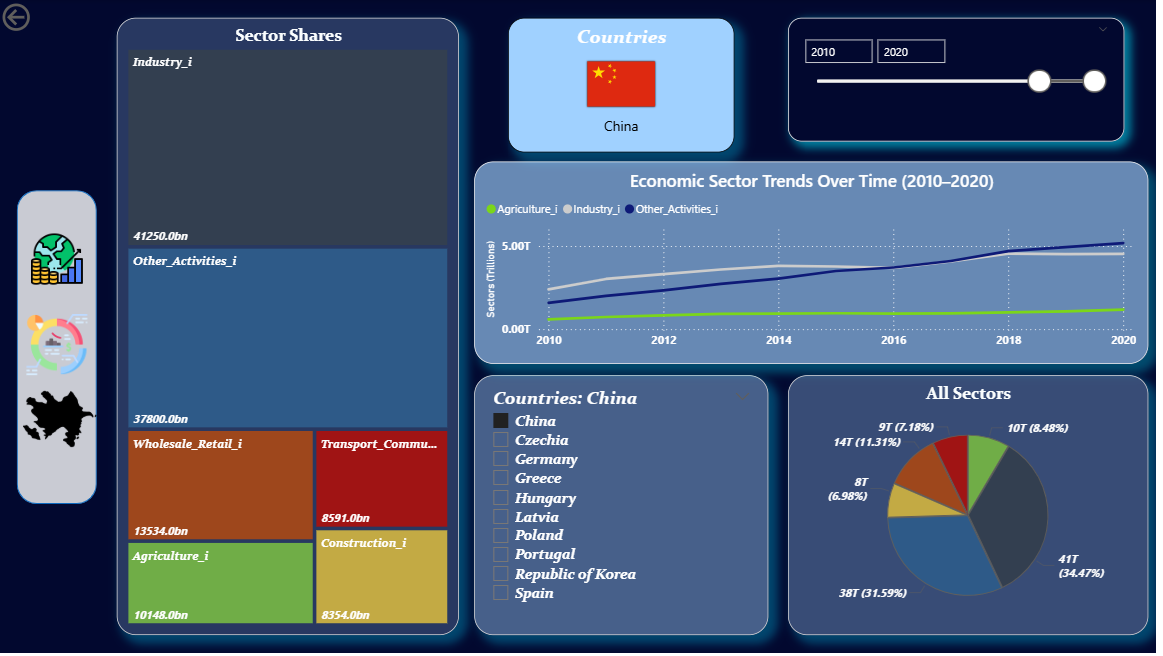

The page's visual inventory and layout, read from the dashboard file:
{"tool":"powerbi","page":{"name":"Sector Shares","canvas":[1280,720],"ordinal":1},"visuals":[{"type":"treemap","title":"Sector Shares","fields":{"Values":["Sum(global_economy_indicators_clean.transport_communication_i)","Sum(global_economy_indicators_clean.other_activities_i)","Sum(global_economy_indicators_clean.industry_i)","Sum(global_economy_indicators_clean.construction_i)","Sum(global_economy_indicators_clean.wholesale_retail_i)","Sum(global_economy_indicators_clean.agriculture_i)"]},"box":[130.5,20.6,376.4,678.6],"z":0},{"type":"slicer","title":"Year","fields":{"Values":["global_economy_indicators_clean.year"]},"box":[868.2,20.6,369.5,136],"z":2000},{"type":"actionButton","box":[0,0,100,40],"z":3000},{"type":"enlightenWorldFlagsE887F52F76244B1C927F80CF9724AEF6","title":"Countries","fields":{"code":["global_economy_indicators_clean.country"]},"box":[560.5,20.6,248.6,148.4],"z":4000},{"type":"shape","box":[20.6,210.2,87.9,344.8],"z":5000},{"type":"image","box":[24.7,346.2,79.7,67.3],"z":6000},{"type":"image","box":[27.5,401.1,81,120.9],"z":7000},{"type":"image","box":[34.3,210.2,60.4,151.1],"z":8000},{"type":"slicer","fields":{"Values":["global_economy_indicators_clean.country"]},"box":[523.4,413.5,322.8,285.7],"z":9000},{"type":"lineChart","title":"Economic Sector Trends Over Time (2010–2020)","fields":{"Category":["global_economy_indicators_clean.year"],"Y":["Sum(global_economy_indicators_clean.agriculture_i)","Sum(global_economy_indicators_clean.industry_i)","Sum(global_economy_indicators_clean.other_activities_i)"]},"box":[523.4,178.6,740.4,222.5],"z":10000},{"type":"pieChart","title":"All Sectors","fields":{"Y":["Sum(global_economy_indicators_clean.agriculture_i)","Sum(global_economy_indicators_clean.industry_i)","Sum(global_economy_indicators_clean.other_activities_i)","Sum(global_economy_indicators_clean.construction_i)","Sum(global_economy_indicators_clean.wholesale_retail_i)","Sum(global_economy_indicators_clean.transport_communication_i)"]},"box":[868.2,413.5,395.6,285.7],"z":11000}]}

Visuals, with their boxes on the page's 1280x720 design canvas (x1, y1, x2, y2). These are canvas units, not pixel positions in the 1163x656 screenshot, which may show the page scaled, cropped or inside an application window:
"Sector Shares" treemap: [left=130, top=21, right=507, bottom=699]
"Year" slicer: [left=868, top=21, right=1238, bottom=157]
actionButton: [left=0, top=0, right=100, bottom=40]
"Countries" enlightenWorldFlagsE887F52F76244B1C927F80CF9724AEF6: [left=560, top=21, right=809, bottom=169]
shape: [left=21, top=210, right=108, bottom=555]
image: [left=25, top=346, right=104, bottom=414]
image: [left=28, top=401, right=108, bottom=522]
image: [left=34, top=210, right=95, bottom=361]
slicer - global_economy_indicators_clean.country: [left=523, top=414, right=846, bottom=699]
"Economic Sector Trends Over Time (2010–2020)" lineChart: [left=523, top=179, right=1264, bottom=401]
"All Sectors" pieChart: [left=868, top=414, right=1264, bottom=699]
